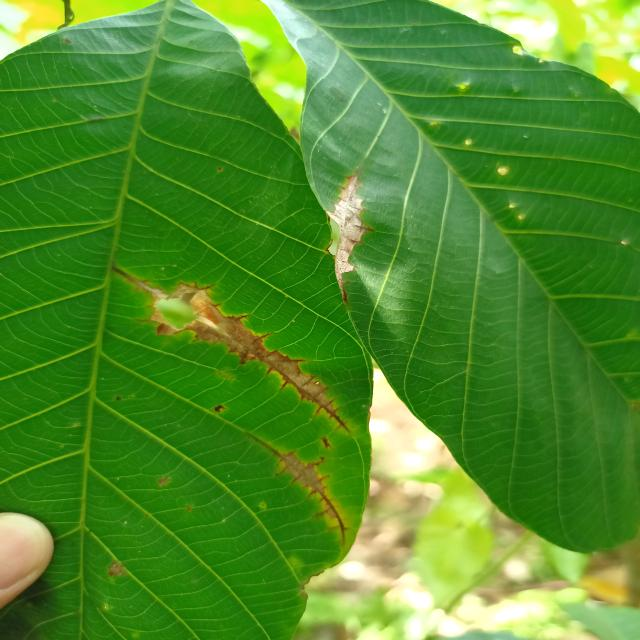Corynespora: (108, 264, 352, 433), (246, 433, 349, 547), (323, 174, 373, 302)
